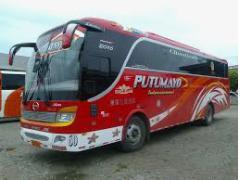bus: (21, 21, 228, 158)
